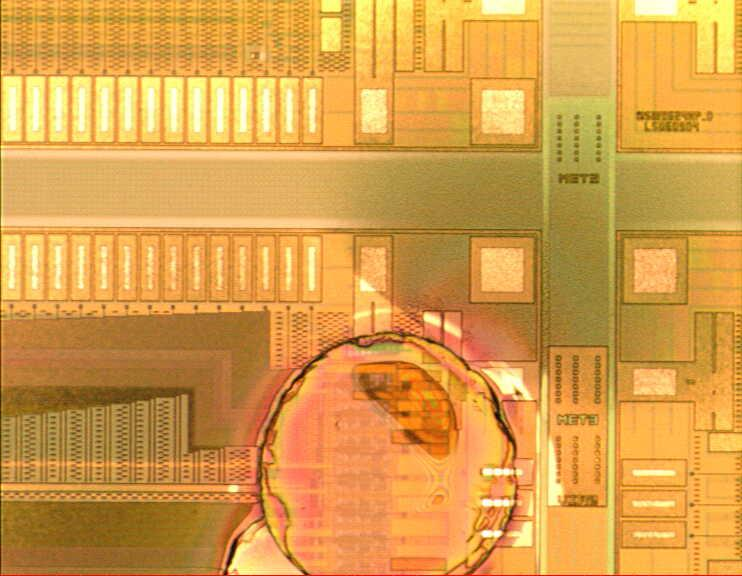COATING BAD: (204, 298, 570, 576)
